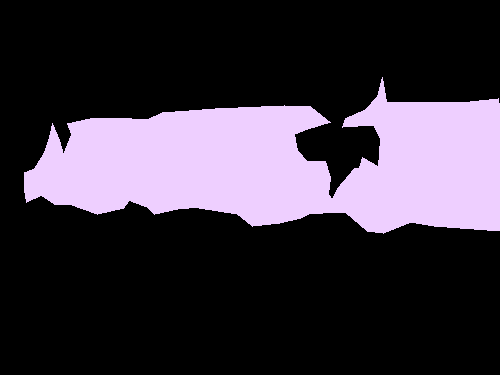Train: (24, 77, 500, 233)
